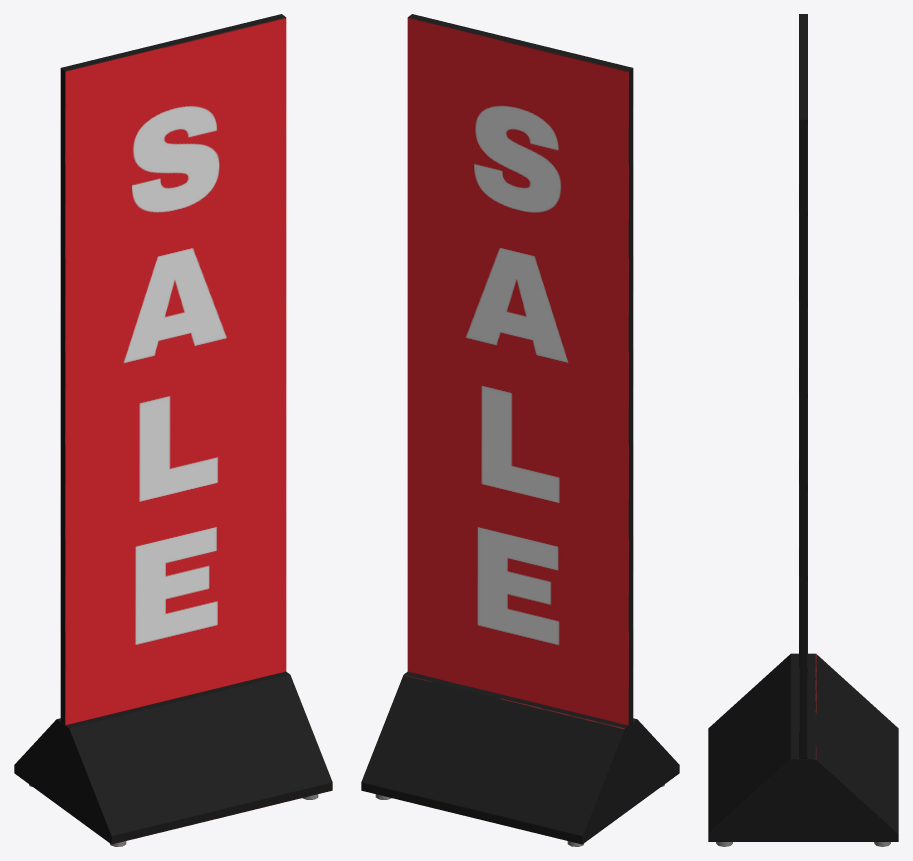
The model's file is uploads_files_5804212_Sign_Stand.glb.
3 views of the same model, side by side, from view 1: azimuth 30°, elevation 25°; view 2: azimuth 150°, elevation 25°; view 3: azimuth 270°, elevation 25° (orthographic). The views are drawn at different scales.
Visible parts, largest first — view 1: Sign_Stand; view 2: Sign_Stand; view 3: Sign_Stand.
Part boxes in pixels (x1=…): Sign_Stand: x1=14, y1=14, x2=332, y2=846; Sign_Stand: x1=361, y1=14, x2=679, y2=846; Sign_Stand: x1=708, y1=14, x2=898, y2=846.
Size of the model in its own units: 0.495 by 1.6 by 0.3775.
1 material, 1 textured.
